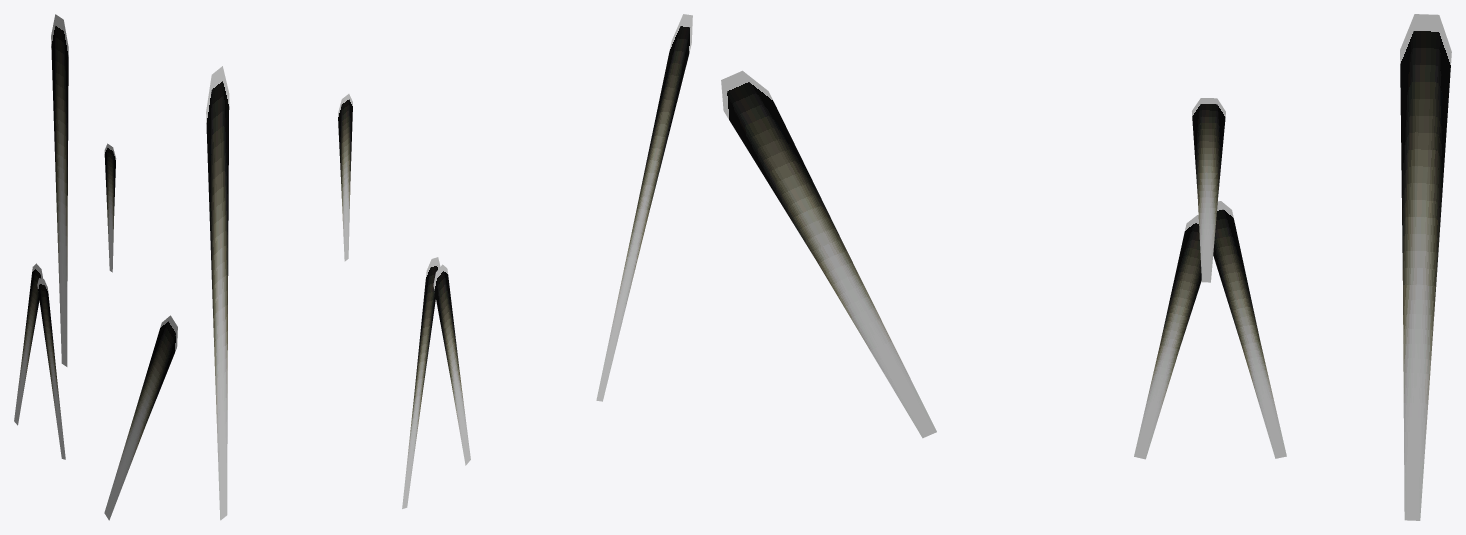
The model's file is stg110_MotSpotC_14.obj.
The picture shows the model from 3 angles, left to right: view 1: azimuth 30°, elevation 25°; view 2: azimuth 150°, elevation 25°; view 3: azimuth 270°, elevation 25°; orthographic projection. The views are drawn at different scales.
Visible parts, largest first — view 1: polygon4, polygon3, polygon1, polygon2, polygon0; view 2: polygon4, polygon3, polygon2, polygon1, polygon0; view 3: polygon4, polygon3, polygon2, polygon1, polygon0.
Boxes of the visible parts, x1,y1,x2,y2 form: polygon4: (51,14,68,366); polygon3: (104,315,177,520); polygon1: (37,278,65,459); polygon2: (14,263,43,425); polygon0: (104,143,116,272); polygon4: (206,66,229,520); polygon3: (596,14,692,401); polygon2: (402,257,440,508); polygon1: (433,264,470,465); polygon0: (338,94,352,261); polygon4: (1400,14,1451,520); polygon3: (721,70,936,438); polygon2: (1213,201,1286,458); polygon1: (1134,215,1201,459); polygon0: (1192,98,1225,282).
Bounding box in the file's own units: 357 × 976 × 1262.
